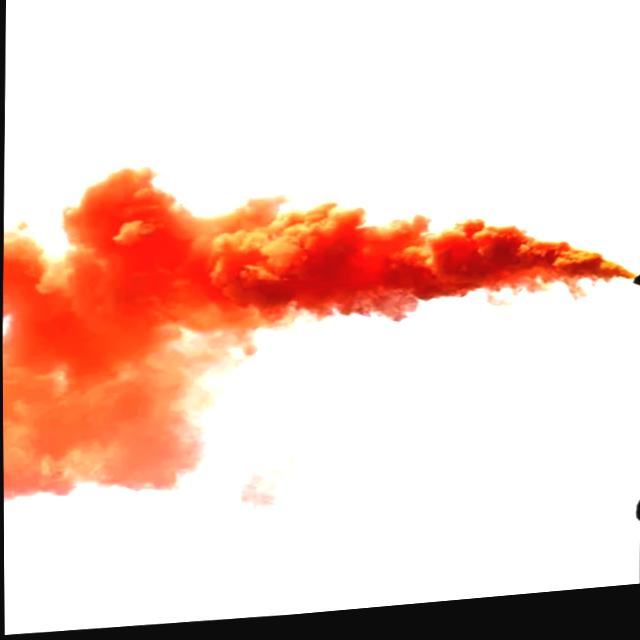no_helmet: (6, 128, 632, 544)
